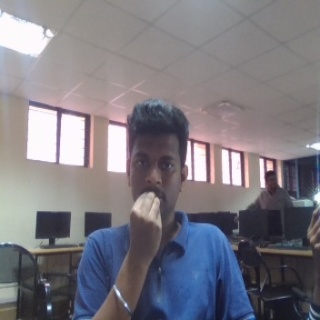Food: (126, 189, 164, 268)
